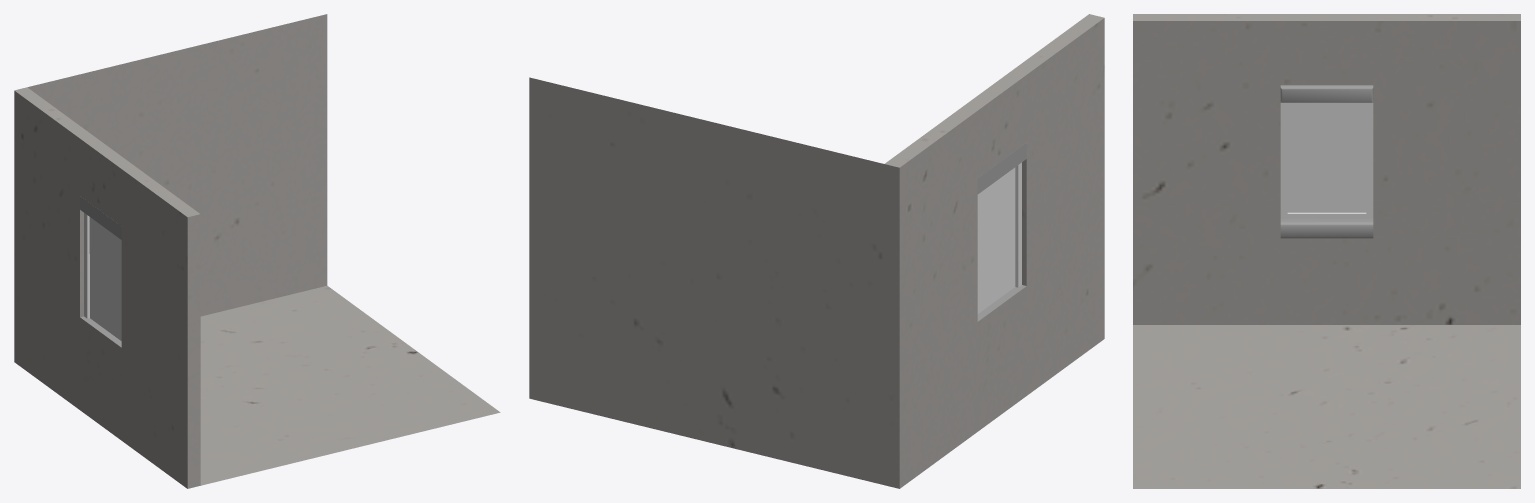
The model's file is Wall.fbx.
The picture shows the model from 3 angles, left to right: view 1: azimuth 30°, elevation 25°; view 2: azimuth 150°, elevation 25°; view 3: azimuth 270°, elevation 25°; orthographic projection. The views are drawn at different scales.
Parts seen in each view (by area): view 1: Background; view 2: Background; view 3: Background.
Boxes of the visible parts, box(x1,y1,x2,y2) form: Background: box(14, 14, 500, 488); Background: box(529, 14, 1104, 488); Background: box(1133, 14, 1520, 488).
Bounding box in the file's own units: 2504 × 2075 × 2400.
